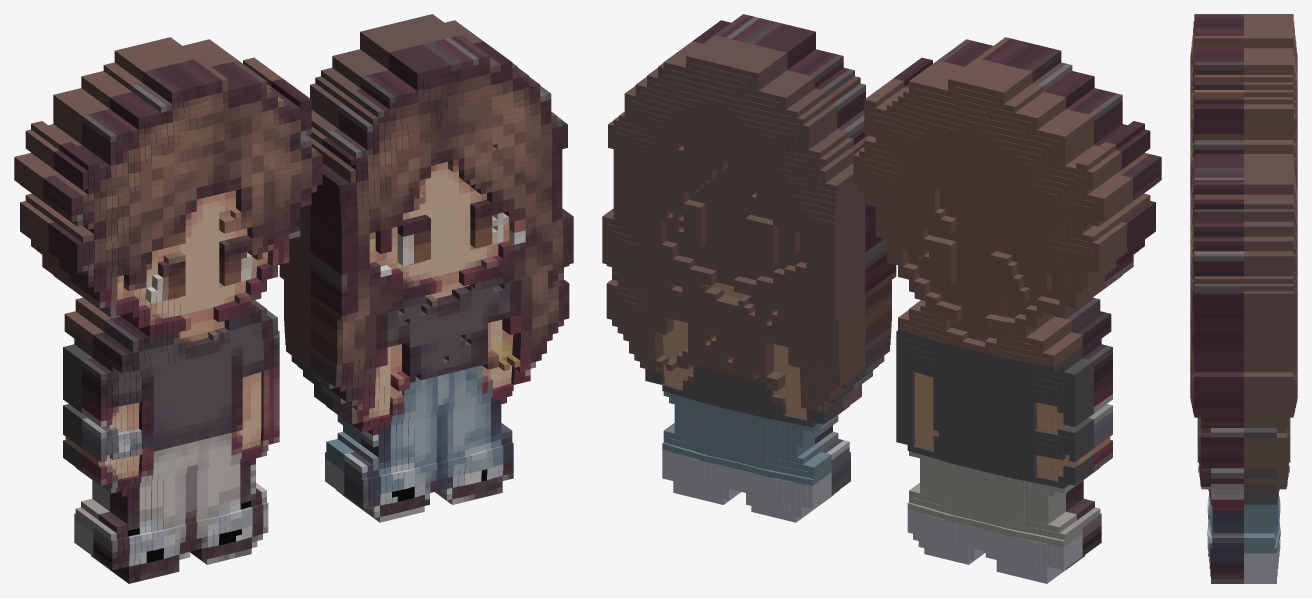
Rendered from pixel_couple.glb.
3 views of the same model, side by side, from view 1: azimuth 30°, elevation 25°; view 2: azimuth 150°, elevation 25°; view 3: azimuth 270°, elevation 25° (orthographic). The views are drawn at different scales.
Visible parts, largest first — view 1: Left character, Right character; view 2: Left character, Right character; view 3: Right character, Left character.
Part boxes in pixels (x1,y1,x2,y2): Left character: (14,37,322,583); Right character: (279,14,573,522); Left character: (853,37,1161,583); Right character: (602,14,896,522); Right character: (1190,154,1297,583); Left character: (1190,14,1297,195).
Bounding box in the file's own units: 5.4 × 5.04 × 1.15.
